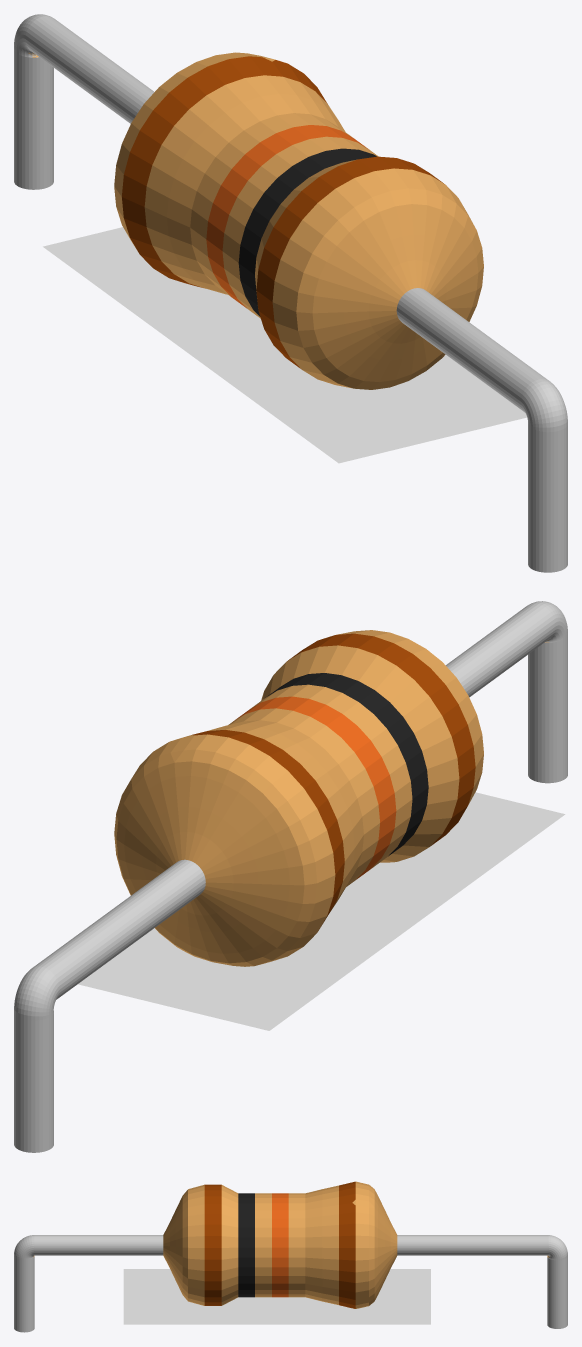
File: R3_tan_6.gltf
3 renders of one model, top to bottom at view 1: azimuth 30°, elevation 25°; view 2: azimuth 150°, elevation 25°; view 3: azimuth 270°, elevation 25°, orthographic. The views are drawn at different scales.
Parts seen in each view (by area): view 1: R3_tan_6, R3_tan_6_plane; view 2: R3_tan_6, R3_tan_6_plane; view 3: R3_tan_6, R3_tan_6_plane.
Part boxes in pixels (left/top/right/bottom): R3_tan_6: left=14, top=14, right=567, bottom=572; R3_tan_6_plane: left=43, top=227, right=527, bottom=463; R3_tan_6: left=14, top=601, right=567, bottom=1152; R3_tan_6_plane: left=78, top=792, right=565, bottom=1030; R3_tan_6: left=14, top=1181, right=567, bottom=1332; R3_tan_6_plane: left=123, top=1269, right=430, bottom=1324.
Bounding box in the file's own units: 0.0161 × 0.0189 × 0.0676.
